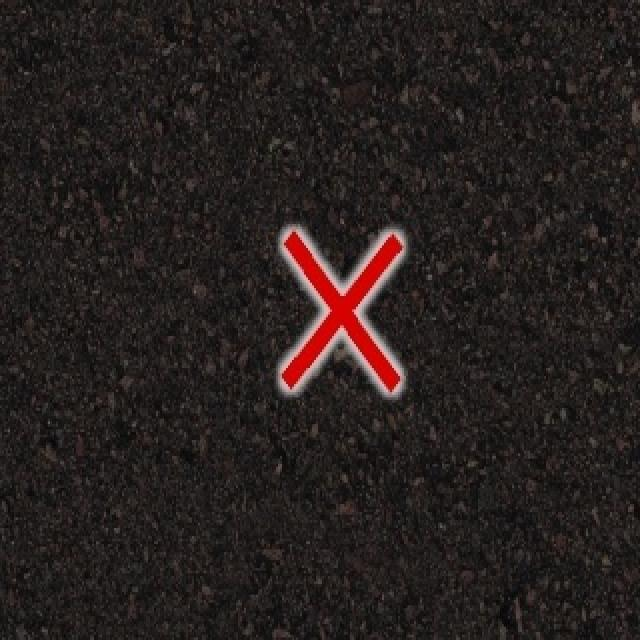x_marker: (281, 230, 401, 390)
